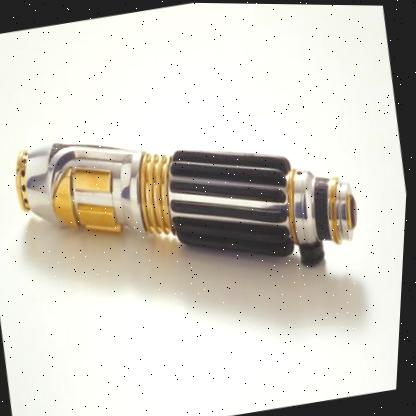lightsaber: (5, 90, 376, 326)
